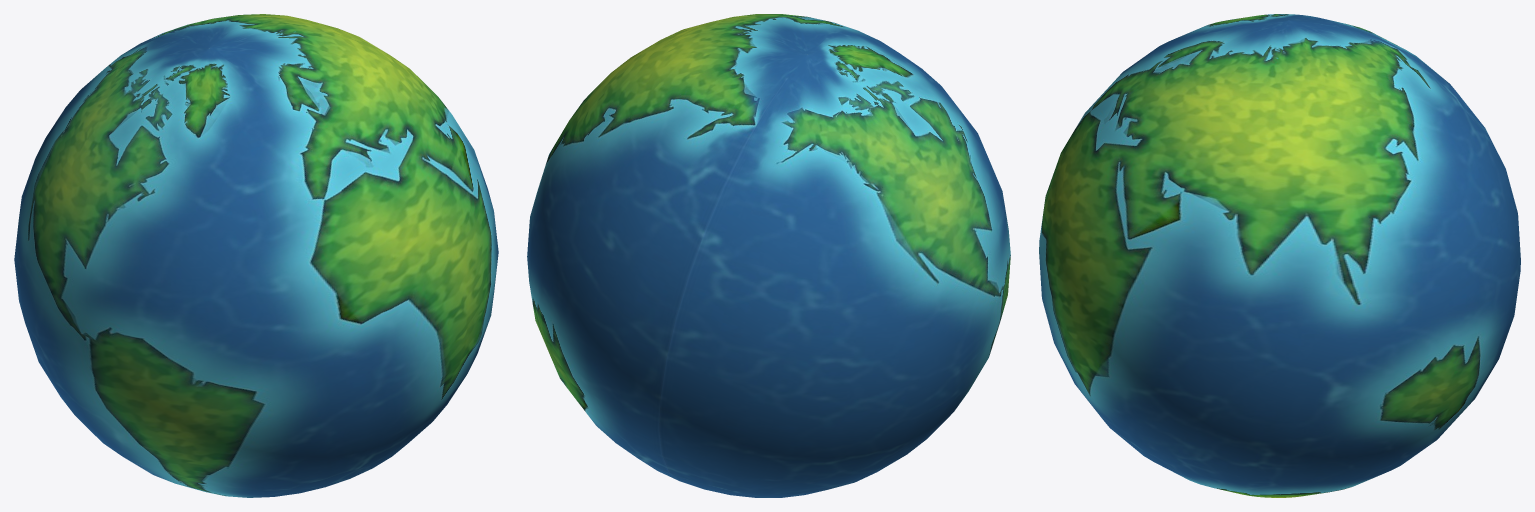
Rendered from earth.glb.
3 renders of one model, left to right at view 1: azimuth 30°, elevation 25°; view 2: azimuth 150°, elevation 25°; view 3: azimuth 270°, elevation 25°, orthographic.
Parts seen in each view (by area): view 1: Earth; view 2: Earth; view 3: Earth.
Part boxes in pixels (left/top/right/bottom): Earth: left=14, top=14, right=498, bottom=497; Earth: left=527, top=14, right=1010, bottom=497; Earth: left=1039, top=14, right=1520, bottom=497.
Bounding box in the file's own units: 0.9058 × 0.9089 × 0.9044.
Materials: 1 (1 with a texture image).
